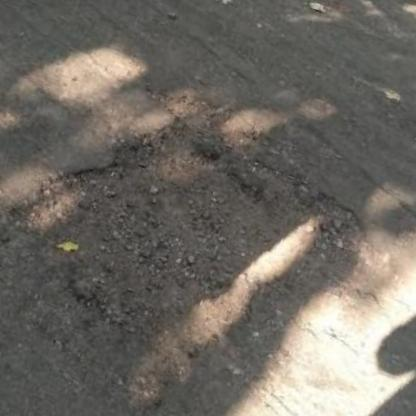pothole: (42, 100, 355, 321)
